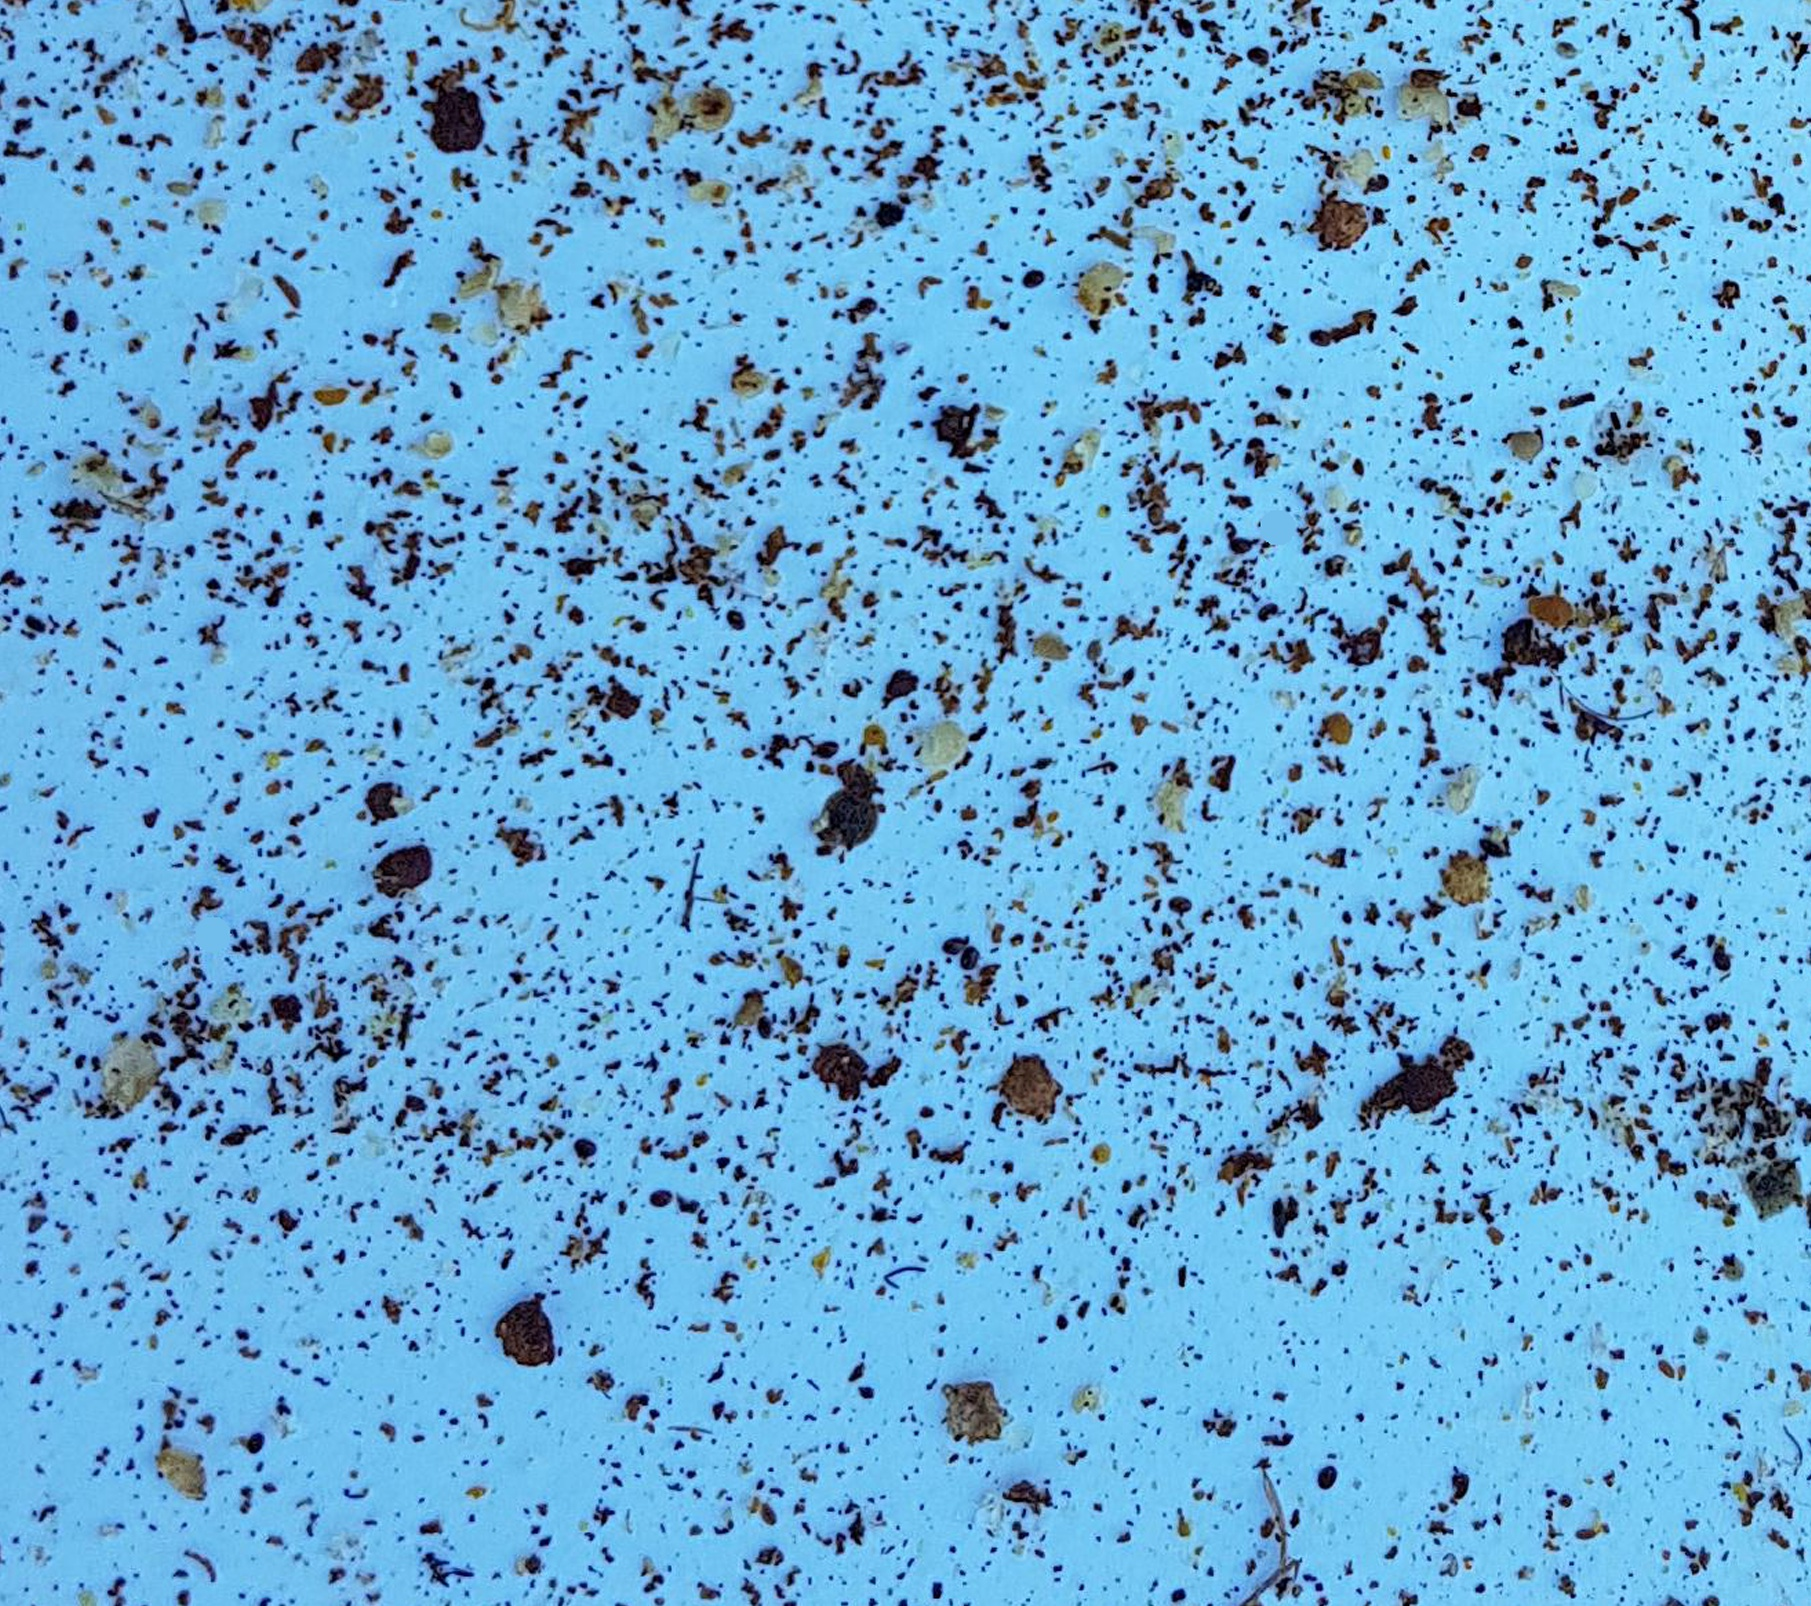Varroa: (1245, 589, 1288, 632), (932, 921, 975, 964), (1219, 524, 1261, 567), (1133, 498, 1164, 530), (1313, 1459, 1343, 1490), (1158, 887, 1191, 915), (571, 1133, 598, 1164), (236, 1423, 264, 1453), (1239, 42, 1267, 70), (59, 305, 87, 333), (758, 1011, 786, 1039), (743, 1022, 771, 1049), (955, 943, 981, 970), (648, 1186, 676, 1212), (1318, 553, 1344, 581), (1709, 950, 1735, 977), (1020, 264, 1048, 288), (1461, 93, 1488, 118), (1309, 322, 1337, 347), (724, 605, 750, 629), (1364, 166, 1392, 189)
